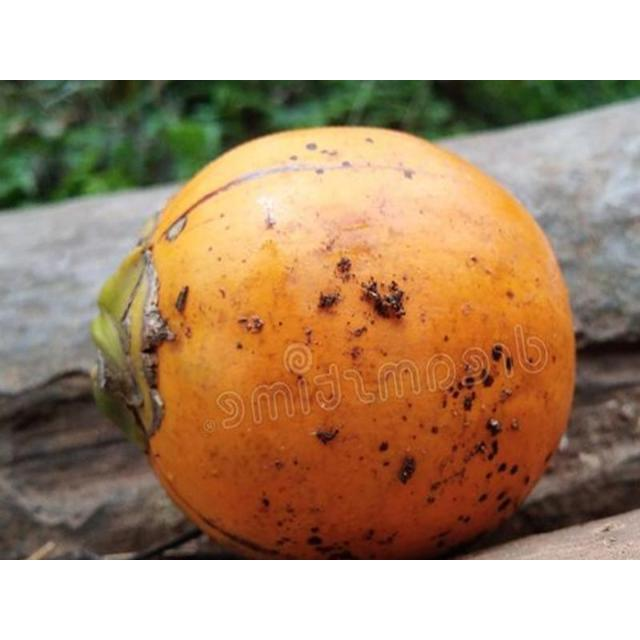good: (88, 127, 578, 559)
